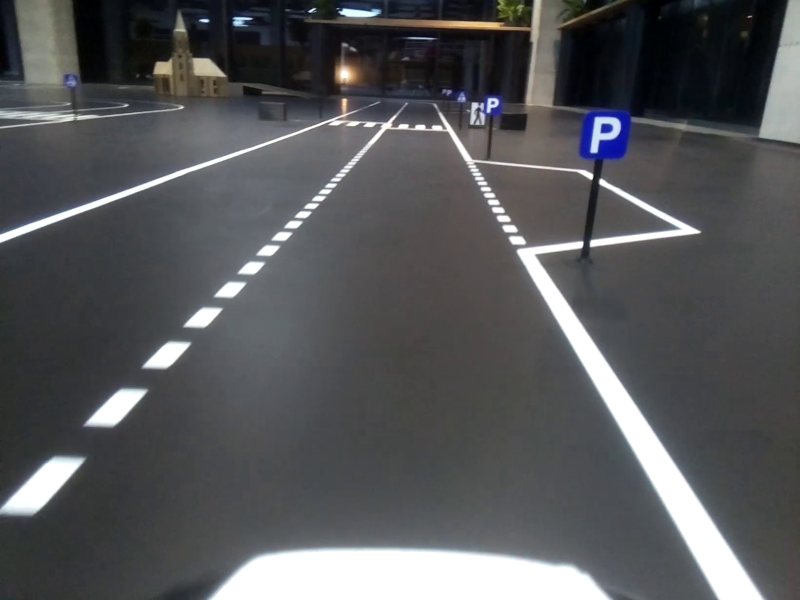park: (583, 107, 630, 163)
